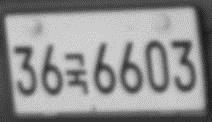0: (145, 40, 170, 93)
3: (172, 39, 198, 92), (12, 45, 38, 96)
6: (39, 45, 65, 97), (118, 42, 144, 94), (92, 41, 117, 94)
국: (64, 51, 90, 94)
